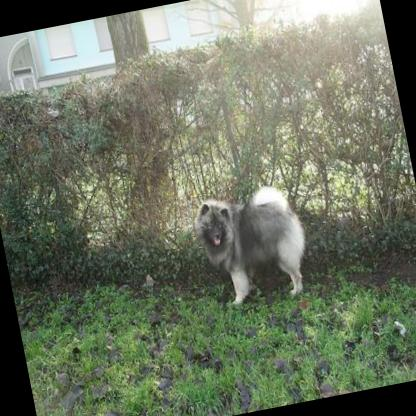keeshond: (186, 178, 314, 312)
